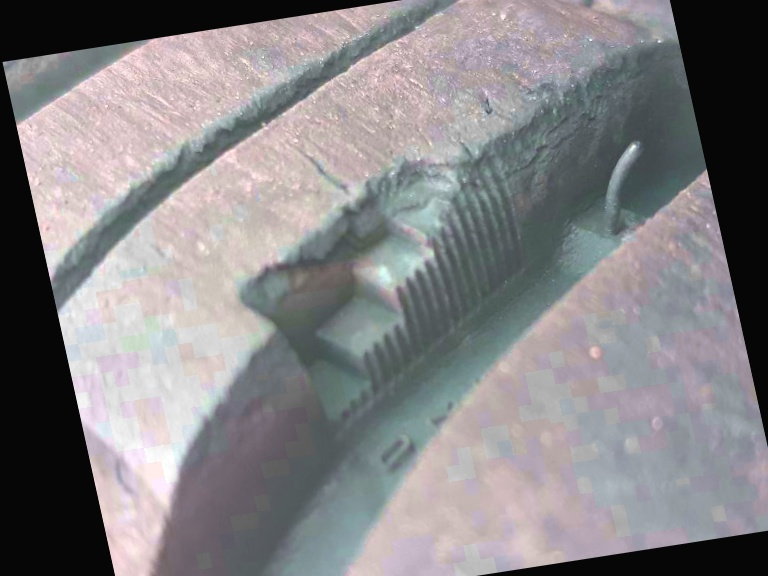temoin:80: (193, 109, 575, 464)
